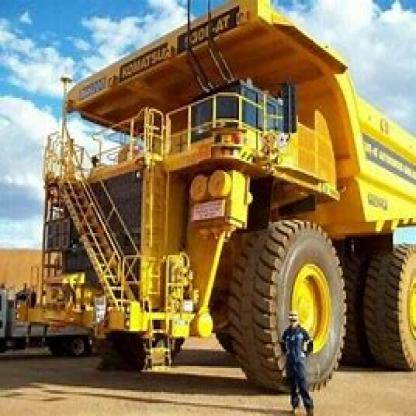dump_truck: (26, 4, 414, 382)
